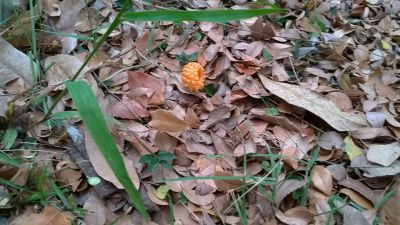eggs: (178, 59, 207, 93)
